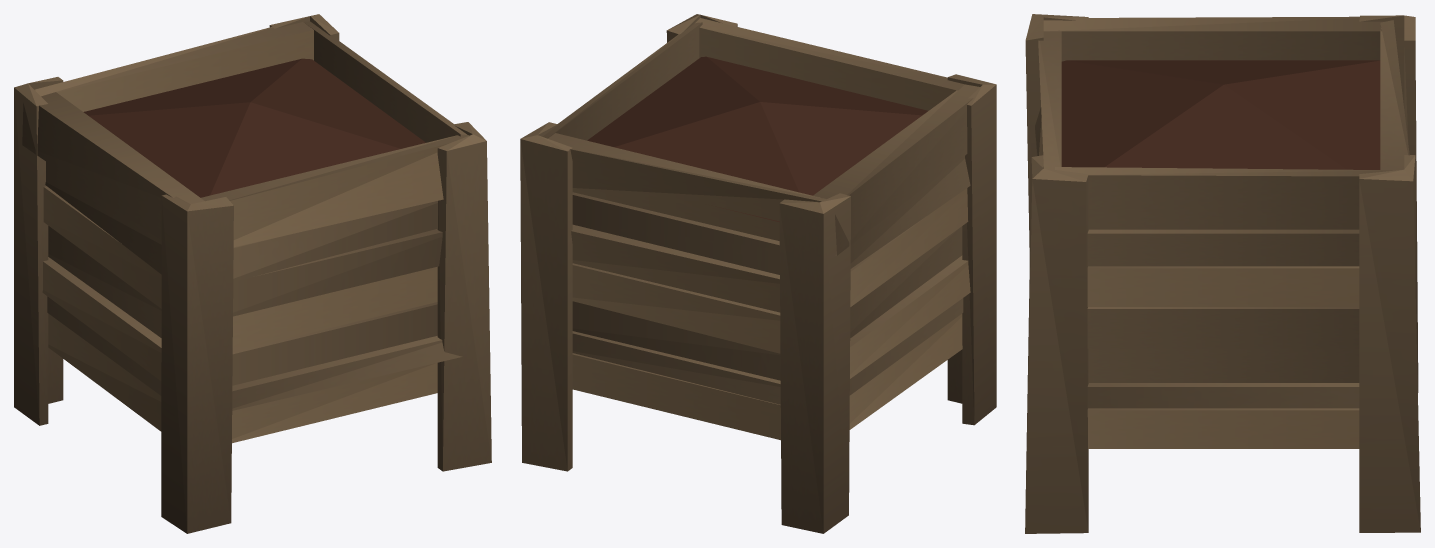
The model's file is ZLP_Build_E_6.FBX.
3 views of the same model, side by side, from view 1: azimuth 30°, elevation 25°; view 2: azimuth 150°, elevation 25°; view 3: azimuth 270°, elevation 25° (orthographic). The views are drawn at different scales.
Parts seen in each view (by area): view 1: ZLP_Build_E_6; view 2: ZLP_Build_E_6; view 3: ZLP_Build_E_6.
Part boxes in pixels (bbox=[...]): ZLP_Build_E_6: bbox=[14, 14, 491, 533]; ZLP_Build_E_6: bbox=[520, 14, 996, 533]; ZLP_Build_E_6: bbox=[1025, 14, 1420, 533].
Size of the model in its own units: 63.4 by 65.26 by 63.72.
